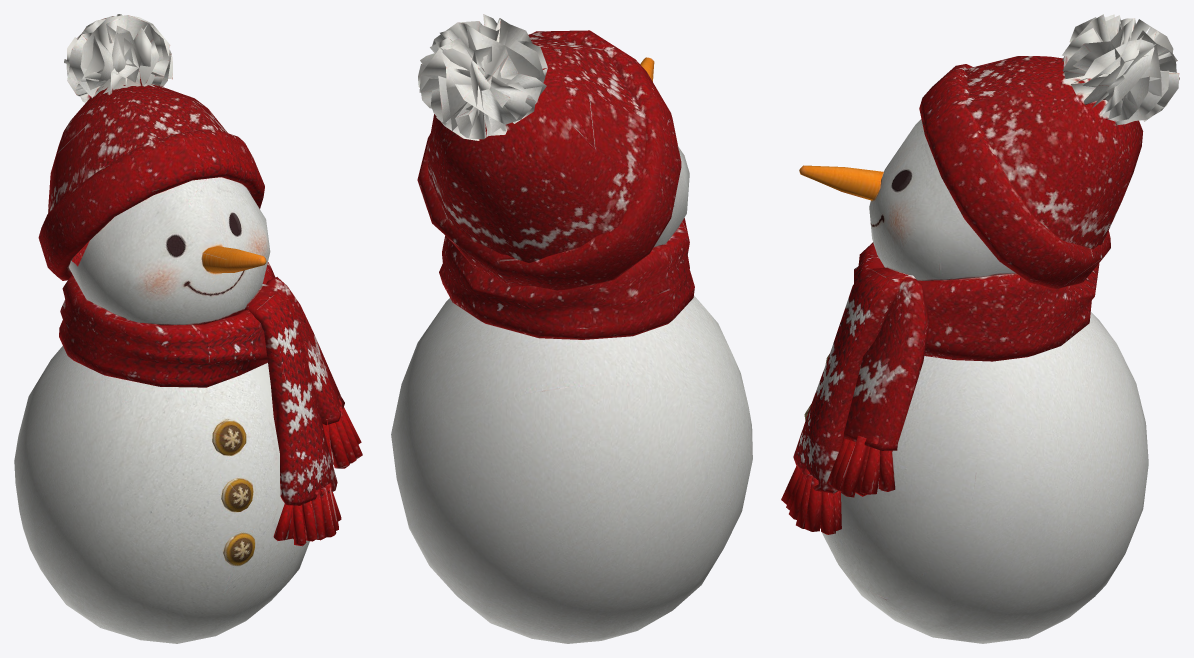
Rendered from AW-XMAS-SNOWMAN-001-v0.2.glb.
The picture shows the model from 3 angles, left to right: view 1: azimuth 30°, elevation 25°; view 2: azimuth 150°, elevation 25°; view 3: azimuth 270°, elevation 25°; orthographic projection. The views are drawn at different scales.
Visible parts, largest first — view 1: AW-XMAS-SNOWMAN-001_meter_ground_pivot; view 2: AW-XMAS-SNOWMAN-001_meter_ground_pivot; view 3: AW-XMAS-SNOWMAN-001_meter_ground_pivot.
Part boxes in pixels (x1,y1,x2,y2): AW-XMAS-SNOWMAN-001_meter_ground_pivot: (14, 14, 362, 643); AW-XMAS-SNOWMAN-001_meter_ground_pivot: (391, 14, 752, 643); AW-XMAS-SNOWMAN-001_meter_ground_pivot: (781, 14, 1179, 643).
Bounding box in the file's own units: 1.03 × 2 × 1.17.
Materials: 1 (1 with a texture image).
